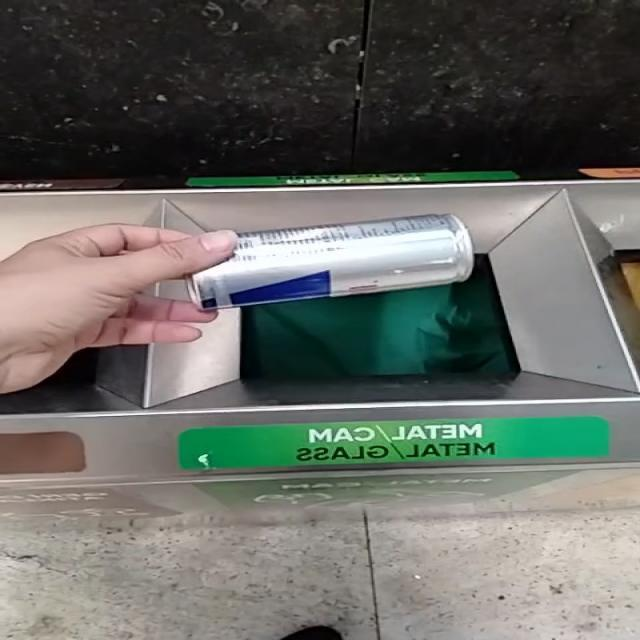Metal: (189, 214, 473, 309)
